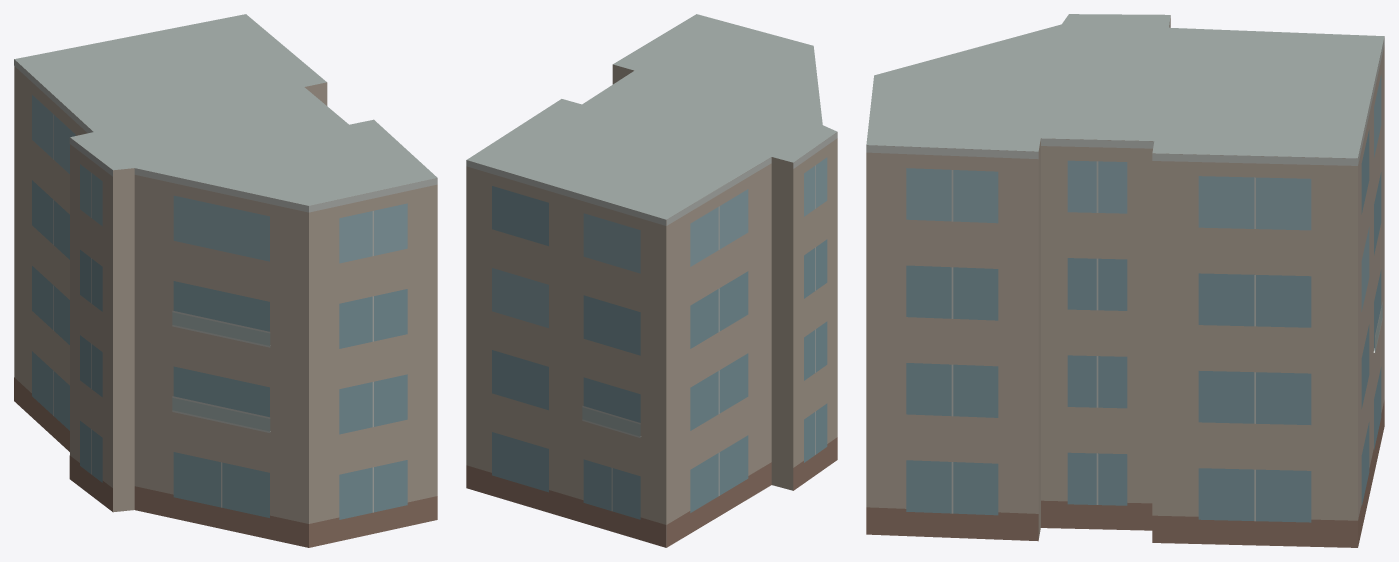
Rendered from survey-upis-32787739.glb.
The picture shows the model from 3 angles, left to right: view 1: azimuth 30°, elevation 25°; view 2: azimuth 150°, elevation 25°; view 3: azimuth 270°, elevation 25°; orthographic projection. The views are drawn at different scales.
Parts seen in each view (by area): view 1: survey-upis-32787739.tmp; view 2: survey-upis-32787739.tmp; view 3: survey-upis-32787739.tmp.
Boxes of the visible parts, bbox=[...] form: survey-upis-32787739.tmp: bbox=[14, 14, 437, 547]; survey-upis-32787739.tmp: bbox=[466, 14, 837, 547]; survey-upis-32787739.tmp: bbox=[866, 14, 1384, 547].
Bounding box in the file's own units: 9.99 × 12.55 × 15.15.
